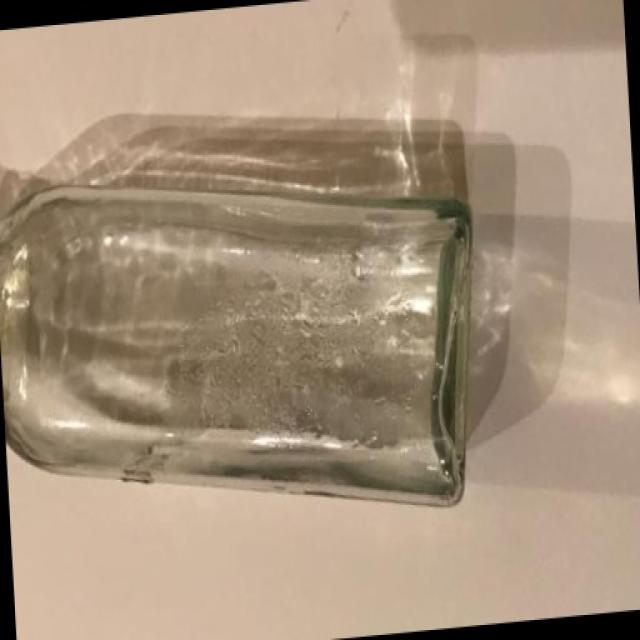vidrio: (0, 108, 490, 548)
